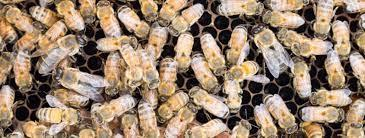worker-bee: (252, 24, 293, 77), (56, 67, 108, 101), (37, 34, 81, 74), (276, 28, 332, 56), (36, 100, 80, 134), (264, 94, 297, 133), (92, 94, 136, 123), (189, 86, 229, 117), (200, 33, 227, 75), (191, 53, 219, 93), (168, 3, 203, 35), (117, 5, 149, 37), (157, 90, 188, 121), (164, 106, 195, 137), (97, 0, 122, 37), (226, 25, 249, 64), (56, 0, 84, 31), (137, 49, 159, 88), (145, 22, 168, 59), (291, 57, 311, 98), (324, 50, 345, 88), (254, 103, 277, 137), (158, 0, 188, 26), (138, 100, 159, 137), (313, 0, 333, 38), (13, 50, 31, 92), (262, 10, 304, 28), (174, 32, 193, 71), (104, 52, 121, 95), (158, 57, 176, 97), (299, 106, 344, 122), (309, 89, 351, 106), (96, 35, 136, 51), (227, 61, 258, 81), (139, 0, 157, 21)
